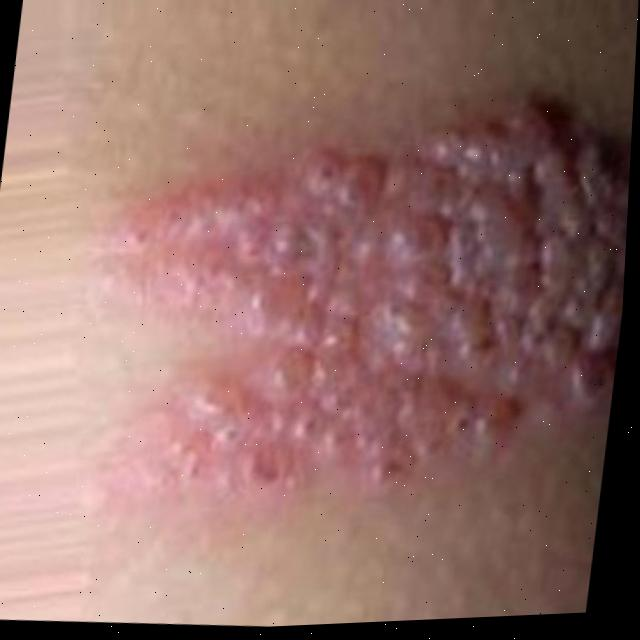Shingles: (52, 69, 635, 551)
